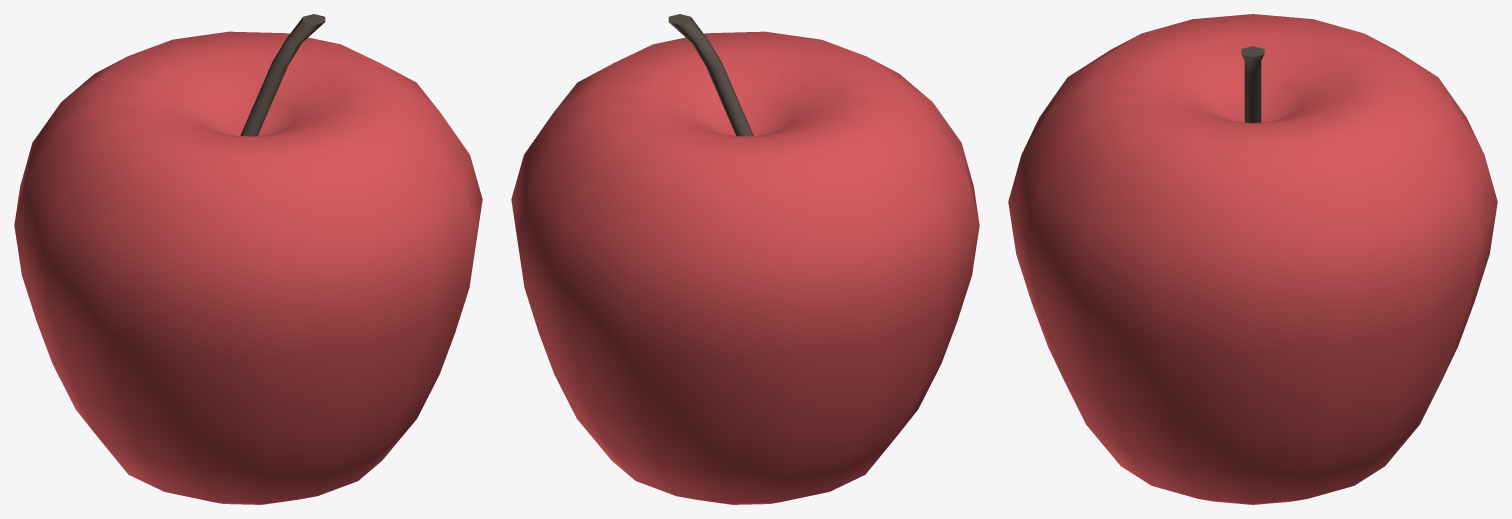
Rendered from SM_Apple.fbx.
3 views of the same model, side by side, from view 1: azimuth 30°, elevation 25°; view 2: azimuth 150°, elevation 25°; view 3: azimuth 270°, elevation 25° (orthographic). The views are drawn at different scales.
Visible parts, largest first — view 1: SM_Apple; view 2: SM_Apple; view 3: SM_Apple.
Part boxes in pixels (x1,y1,x2,y2): SM_Apple: (14,14,482,504); SM_Apple: (511,14,979,504); SM_Apple: (1008,14,1497,504).
Size of the model in its own units: 0.1 by 0.1 by 0.1.
